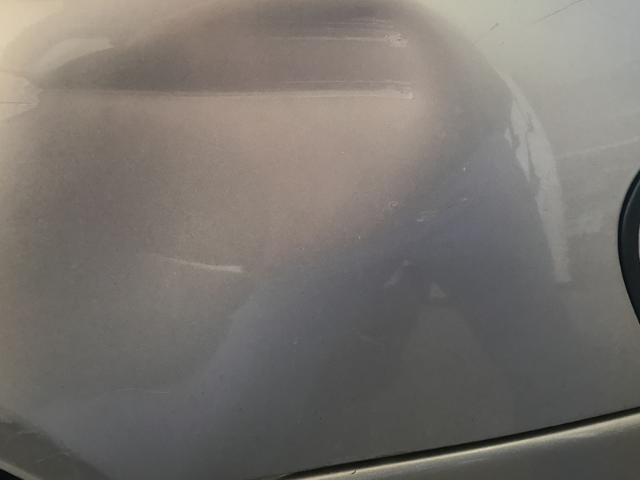Fender: (6, 0, 606, 430)
